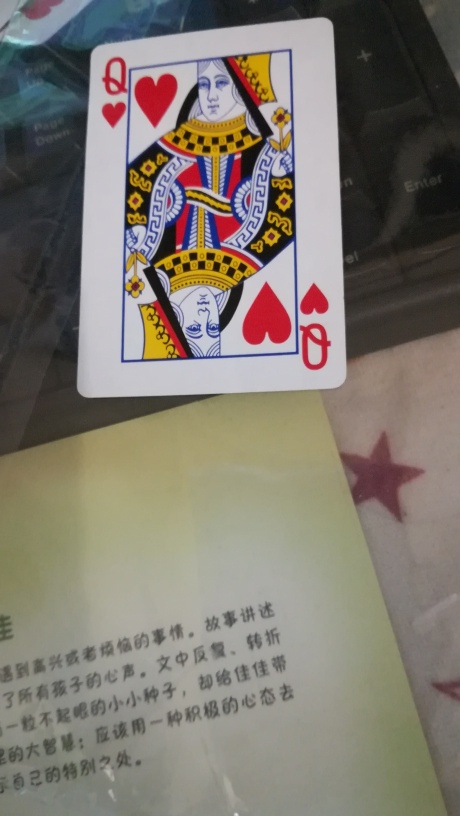hx q: (77, 14, 352, 398)
